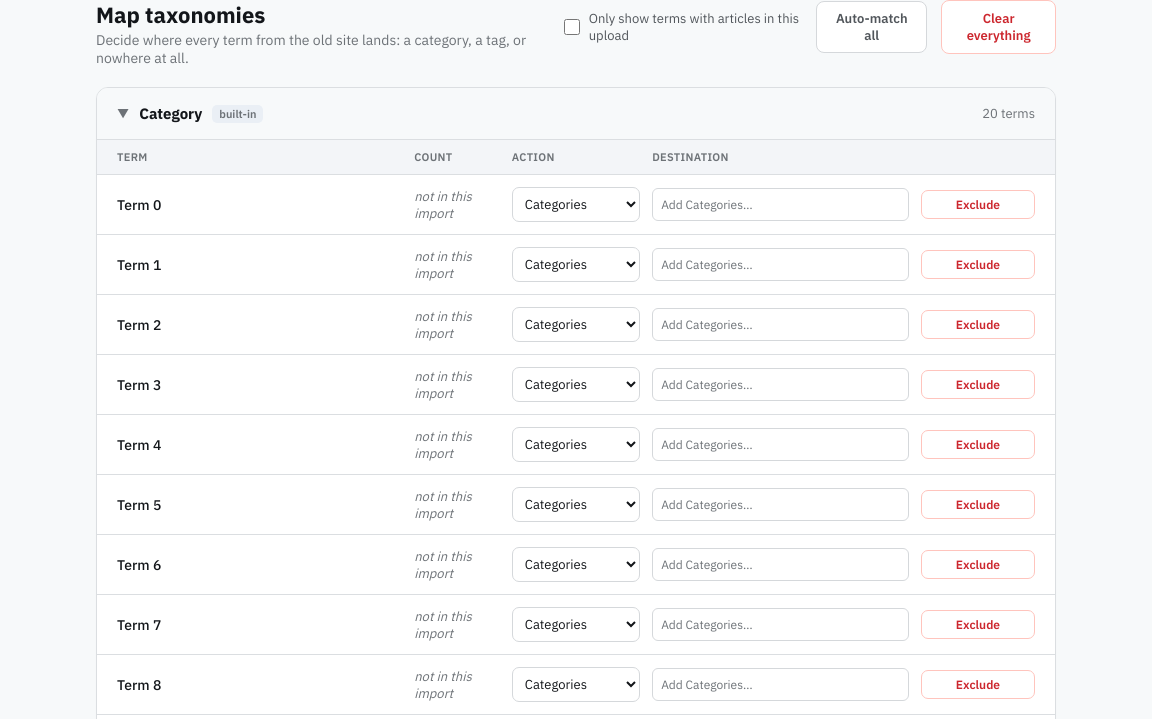
MappingsTab auto-match › opens a confirm modal, and confirming replaces mappings and closes the modal
Click the button "Auto-match all" at (872, 27), box [816, 1, 927, 53]
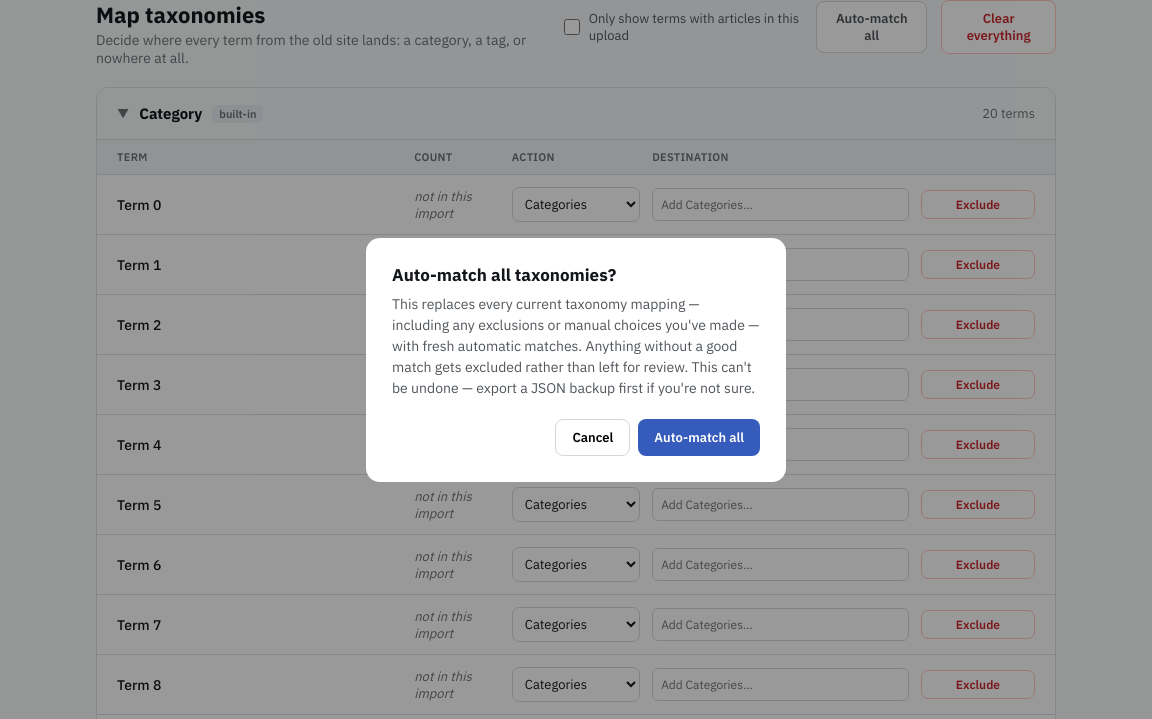
expect the text "Auto-match all taxonomies?" is shown: met, box [392, 264, 616, 286]
Click the button "Auto-match all" at (699, 438), box [638, 419, 760, 456]
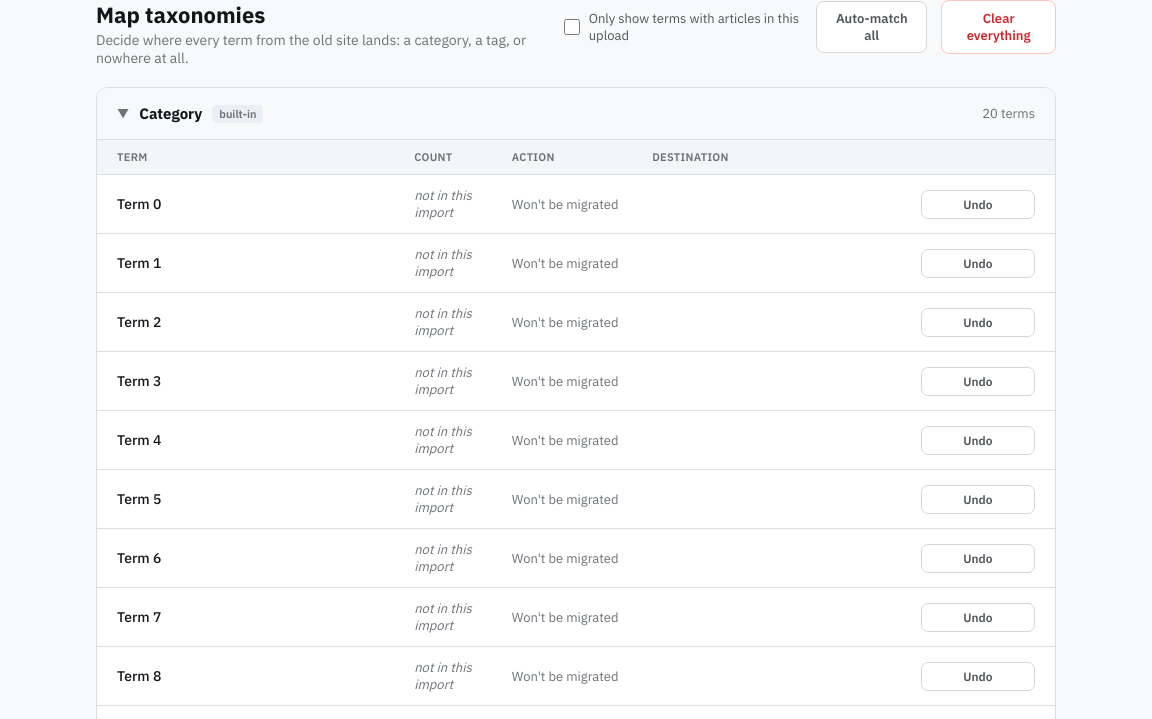
expect the text "Auto-match all taxonomies?" is gone: met
